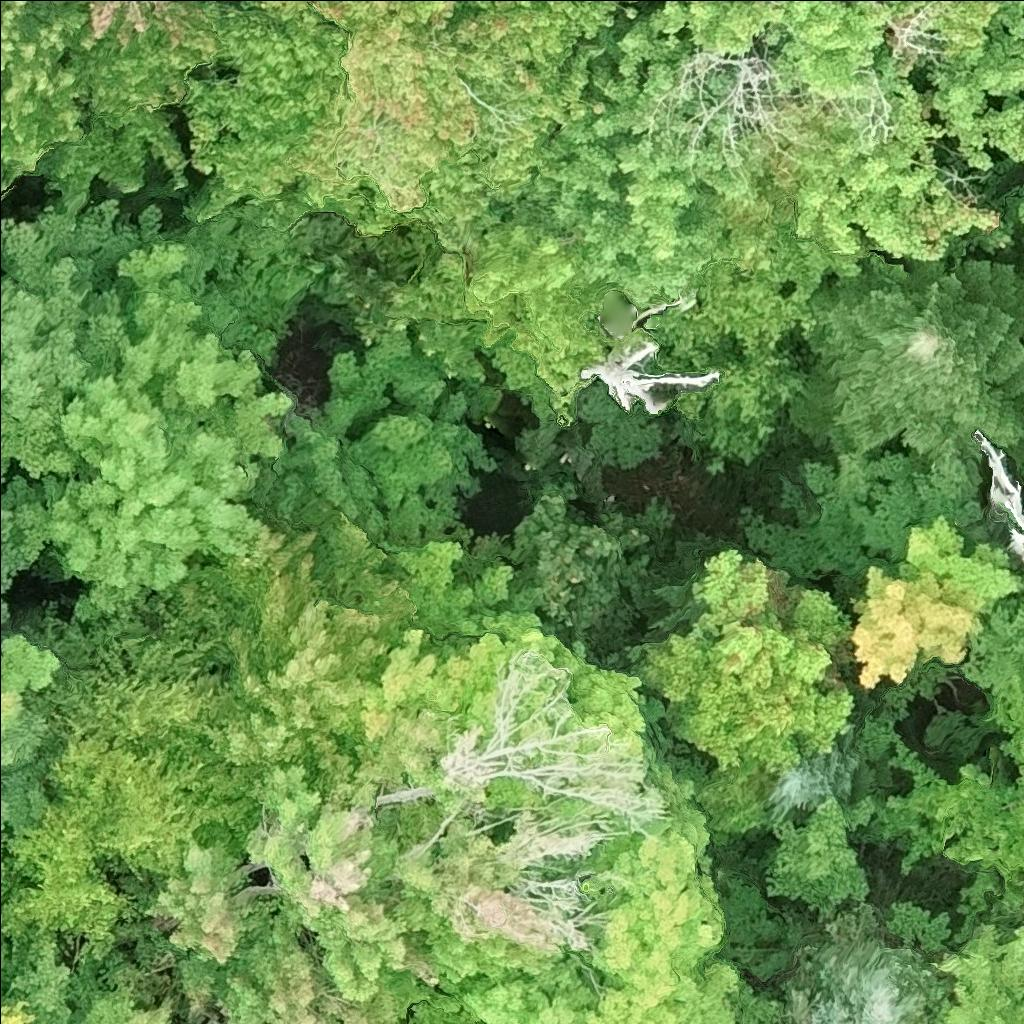crown: (524, 0, 1011, 307), (0, 549, 261, 993), (144, 757, 577, 1023), (181, 0, 637, 246), (0, 240, 294, 619), (405, 808, 785, 1023), (357, 535, 665, 787), (632, 544, 856, 850), (0, 198, 217, 489), (201, 518, 419, 787), (786, 253, 1023, 458), (31, 0, 227, 218), (323, 329, 500, 549), (840, 515, 1023, 690), (508, 478, 650, 654), (877, 734, 1023, 904), (885, 0, 1023, 173), (660, 328, 807, 471), (242, 409, 386, 550), (778, 907, 953, 1023), (0, 0, 88, 213), (0, 633, 63, 874), (760, 790, 874, 920), (0, 947, 174, 1023), (763, 729, 891, 824), (929, 921, 1023, 1023), (974, 430, 1023, 558), (236, 0, 321, 19), (0, 993, 40, 1023), (1012, 178, 1023, 227), (621, 0, 640, 4), (1019, 260, 1023, 273)
